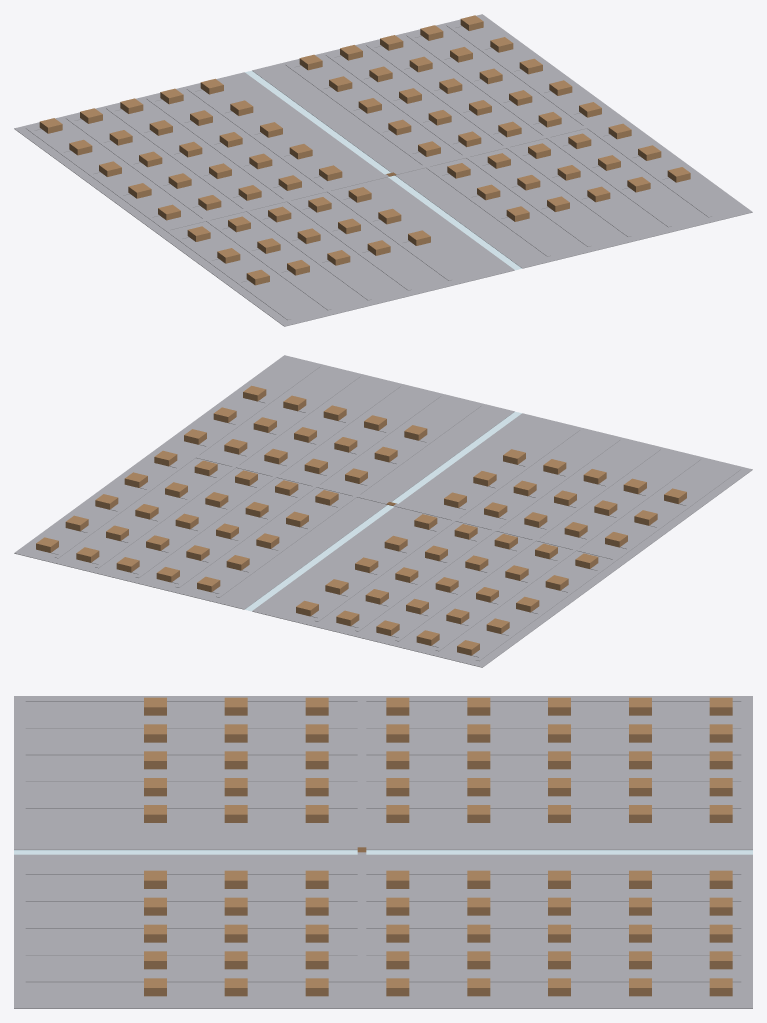
Rendered from city.glb.
The picture shows the model from 3 angles, top to bottom: view 1: azimuth 30°, elevation 25°; view 2: azimuth 150°, elevation 25°; view 3: azimuth 270°, elevation 25°; orthographic projection. The views are drawn at different scales.
Parts seen in each view (by area): view 1: terrain_west_proxy, terrain_east_proxy, river_water_proxy, road_east_1, road_east_2, road_west_4, road_east_4, road_west_2, road_west_0, road_west_1, road_east_0, road_west_3 (+3 smaller); view 2: terrain_west_proxy, terrain_east_proxy, river_water_proxy, road_west_4, road_east_2, road_west_2, road_west_3, road_east_0, road_east_4, road_west_1, road_east_1, road_west_0 (+3 smaller); view 3: terrain_west_proxy, terrain_east_proxy, river_water_proxy, road_west_3, road_east_2, road_west_2, road_east_4, road_east_3, road_west_0, road_west_1, road_east_1, road_west_4 (+3 smaller).
Boxes of the visible parts, bbox=[...] form: terrain_west_proxy: bbox=[252, 14, 752, 268]; terrain_east_proxy: bbox=[14, 72, 514, 326]; river_water_proxy: bbox=[245, 70, 521, 270]; road_east_1: bbox=[146, 97, 411, 290]; road_east_2: bbox=[106, 107, 371, 300]; road_west_4: bbox=[285, 64, 550, 256]; road_east_4: bbox=[25, 127, 290, 320]; road_west_2: bbox=[366, 44, 631, 236]; road_west_0: bbox=[446, 24, 711, 217]; road_west_1: bbox=[406, 34, 671, 227]; road_east_0: bbox=[187, 88, 451, 280]; road_west_3: bbox=[326, 54, 590, 246]; terrain_west_proxy: bbox=[14, 355, 514, 609]; terrain_east_proxy: bbox=[252, 413, 752, 667]; river_water_proxy: bbox=[245, 411, 521, 611]; road_west_4: bbox=[216, 405, 481, 597]; road_east_2: bbox=[395, 448, 660, 641]; road_west_2: bbox=[135, 385, 400, 577]; road_west_3: bbox=[176, 395, 440, 587]; road_east_0: bbox=[315, 429, 579, 621]; road_east_4: bbox=[476, 468, 741, 661]; road_west_1: bbox=[95, 375, 360, 568]; road_east_1: bbox=[355, 438, 620, 631]; road_west_0: bbox=[55, 365, 320, 558]; terrain_west_proxy: bbox=[14, 854, 752, 1008]; terrain_east_proxy: bbox=[14, 696, 752, 849]; river_water_proxy: bbox=[14, 850, 752, 854]; road_west_3: bbox=[25, 898, 741, 901]; road_east_2: bbox=[25, 752, 741, 755]; road_west_2: bbox=[25, 925, 741, 928]; road_east_4: bbox=[25, 698, 741, 701]; road_east_3: bbox=[25, 725, 741, 728]; road_west_0: bbox=[25, 979, 741, 982]; road_west_1: bbox=[25, 952, 741, 955]; road_east_1: bbox=[25, 779, 741, 781]; road_west_4: bbox=[25, 872, 741, 874].
Size of the model in its own units: 512 by 8.6 by 512.
